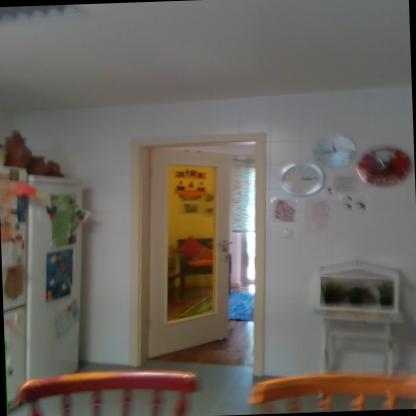semi: (121, 124, 288, 380)
